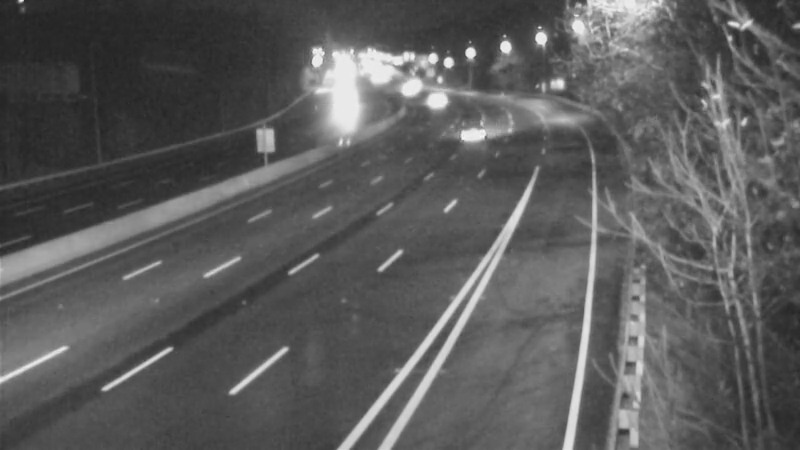vehicle: (414, 76, 464, 126), (444, 101, 494, 151)
